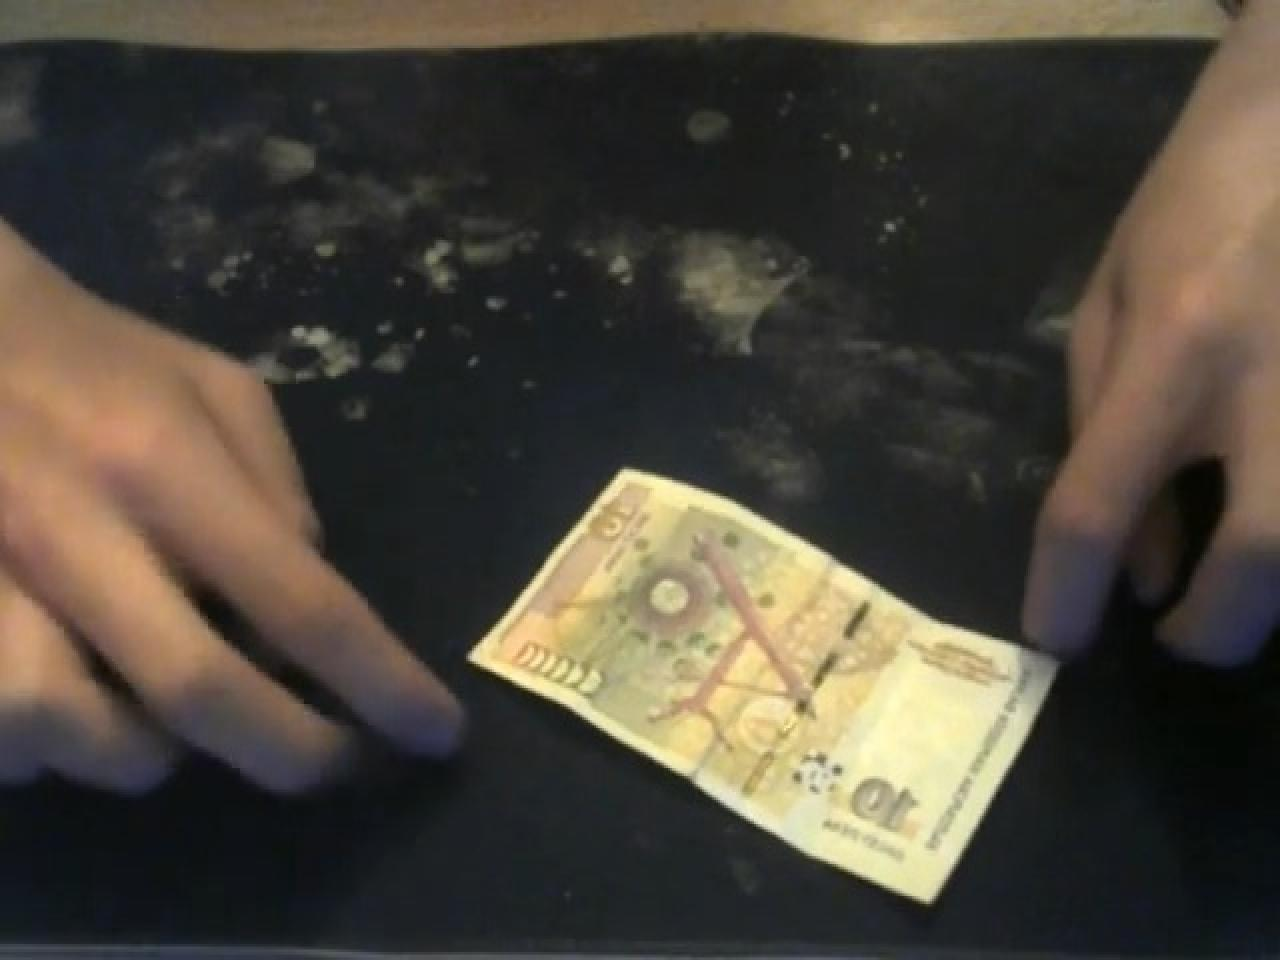10leva: (468, 469, 1060, 907)
